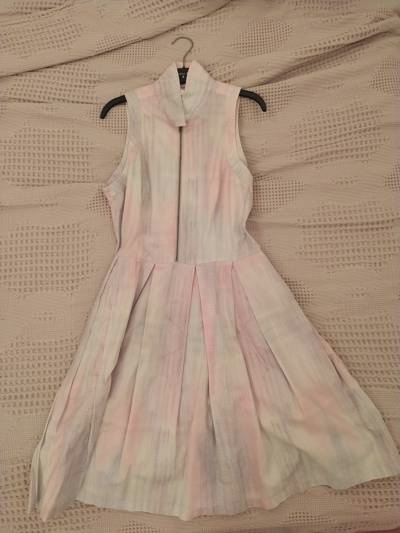Dress: (17, 48, 399, 530)
